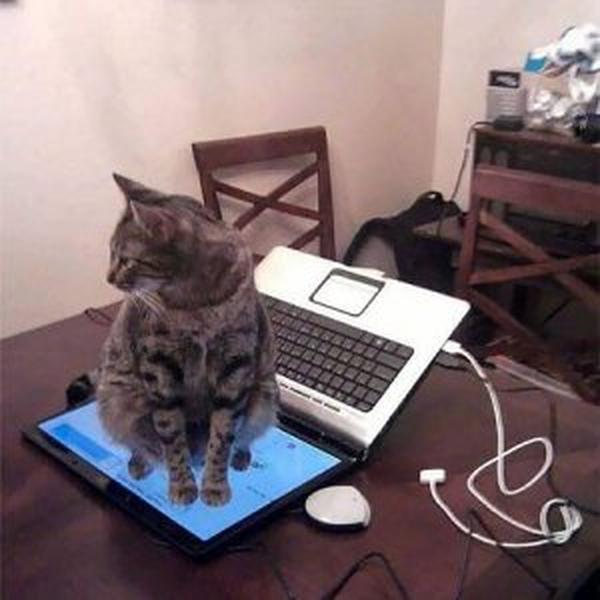michi: (92, 163, 285, 516)
